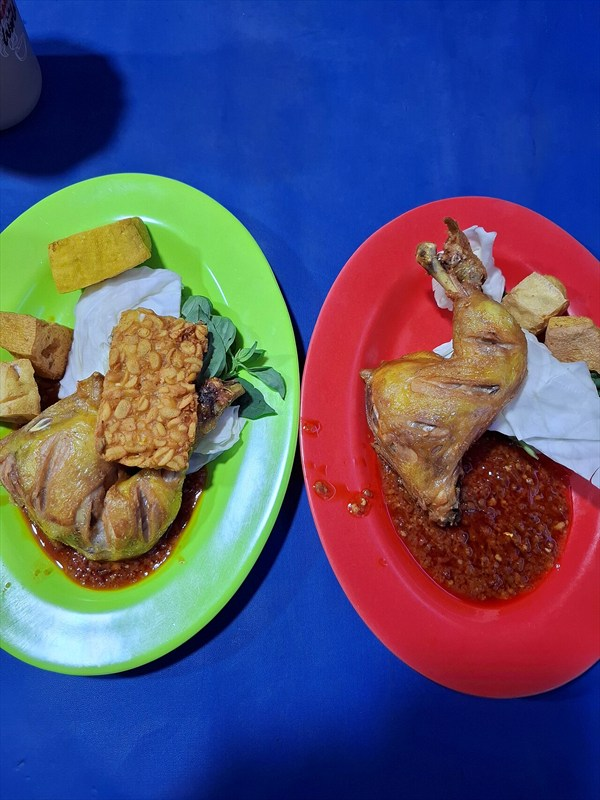Ayam Goreng: (28, 185, 550, 648)
